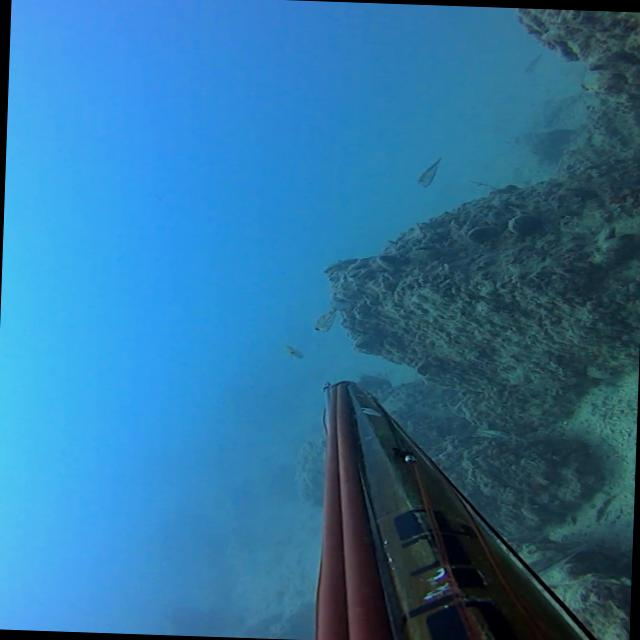Balon Baligi: (312, 300, 346, 331), (417, 154, 441, 187), (522, 50, 542, 74), (284, 343, 304, 357)
